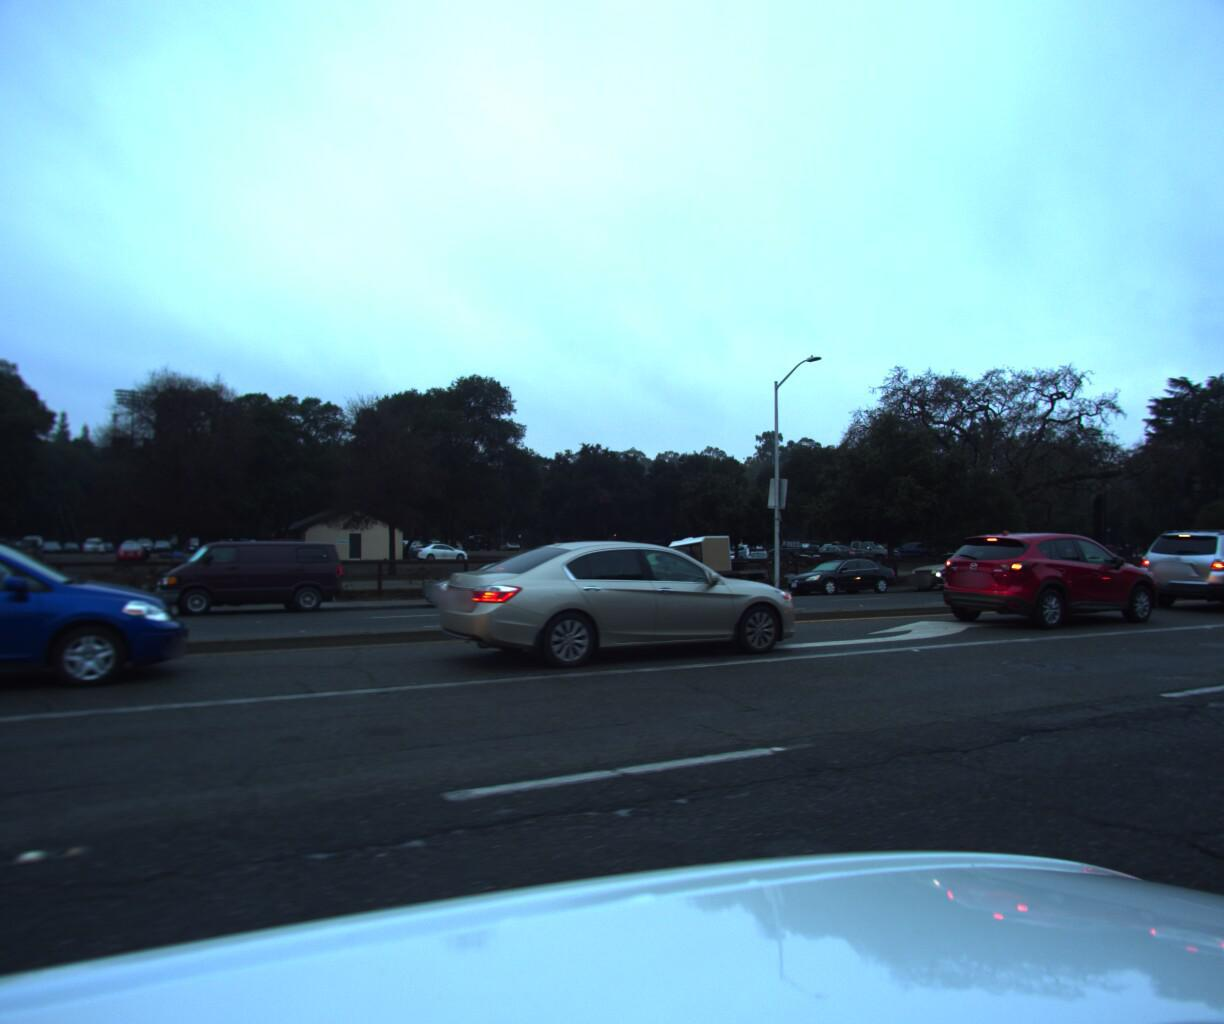car: (418, 528, 822, 682), (0, 528, 181, 726), (930, 523, 1169, 633), (143, 535, 351, 621), (588, 527, 770, 603), (1126, 520, 1224, 613), (414, 555, 570, 609), (774, 551, 900, 597), (899, 545, 1014, 588)
other_vehicle: (0, 467, 14, 656)
